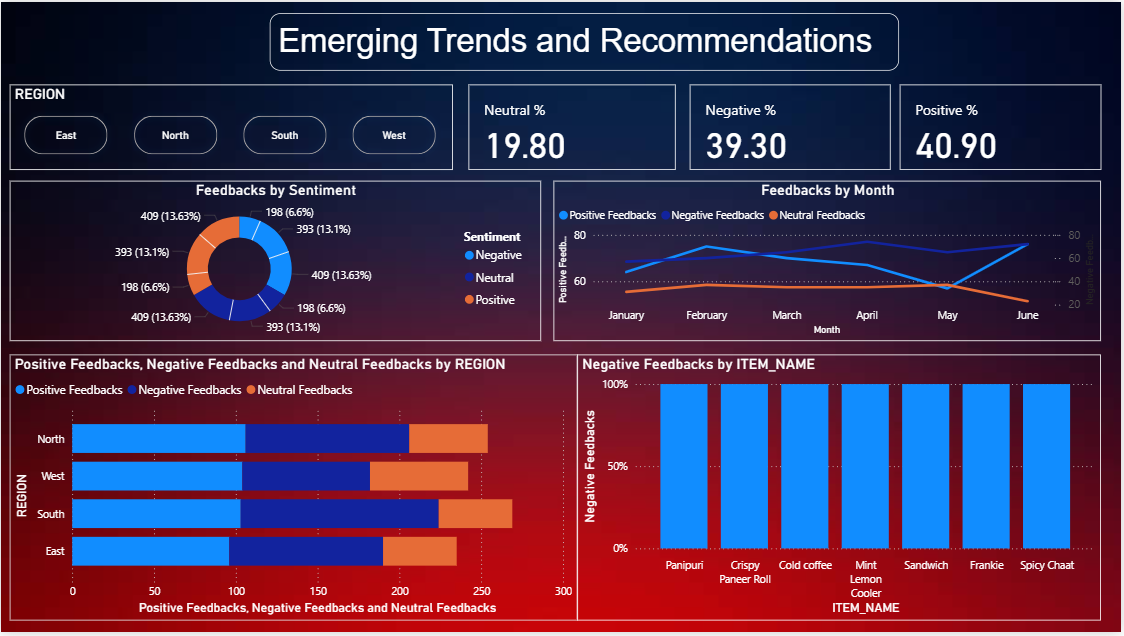

Layout of this report page (visuals, bound fields, positions):
{"tool":"powerbi","page":{"name":"milestone_2","canvas":[1280,720],"ordinal":1},"visuals":[{"type":"cardVisual","fields":{"Data":["unique_balaji_dataset_final_(1).Positive %"]},"box":[1026.9,93.6,230.8,97.4],"z":0},{"type":"cardVisual","fields":{"Data":["unique_balaji_dataset_final_(1).Negative %"]},"box":[787.2,93.6,229.5,97.4],"z":1000},{"type":"advancedSlicerVisual","fields":{"Values":["unique_balaji_dataset_final_(1).REGION"]},"box":[10.3,93.6,506.4,97.4],"z":2000},{"type":"barChart","fields":{"Category":["unique_balaji_dataset_final_(1).REGION"],"Y":["unique_balaji_dataset_final_(1).Positive Feedbacks","unique_balaji_dataset_final_(1).Negative Feedbacks","unique_balaji_dataset_final_(1).Neutral Feedbacks"]},"box":[10.3,402.6,648.7,303.8],"z":3000},{"type":"lineChart","title":" Feedbacks by Month","fields":{"Category":["unique_balaji_dataset_final_(1).DATE.Variation.Date Hierarchy.Month"],"Y":["unique_balaji_dataset_final_(1).Positive Feedbacks"],"Y2":["unique_balaji_dataset_final_(1).Negative Feedbacks","unique_balaji_dataset_final_(1).Neutral Feedbacks"]},"box":[631.9,204.9,625.8,182.8],"z":4000},{"type":"donutChart","title":"Feedbacks by Sentiment","fields":{"Category":["unique_balaji_dataset_final_(1).Sentiment"],"Y":["unique_balaji_dataset_final_(1).Neutral Feedbacks","unique_balaji_dataset_final_(1).Negative Feedbacks","unique_balaji_dataset_final_(1).Positive Feedbacks"]},"box":[9.8,204.9,607.4,182.8],"z":5000},{"type":"cardVisual","fields":{"Data":["unique_balaji_dataset_final_(1).Neutral %"]},"box":[534.6,93.6,237.2,97.4],"z":6000},{"type":"textbox","box":[307.8,13.3,718.9,65.6],"z":7000},{"type":"hundredPercentStackedColumnChart","fields":{"Category":["unique_balaji_dataset_final_(1).ITEM_NAME"],"Y":["unique_balaji_dataset_final_(1).Negative Feedbacks"]},"box":[659,402.6,598.7,303.8],"z":8000}]}

Visuals, with their boxes in screenshot pixels (x1, y1, x2, y2), scaled from the page's 1280x720 canvas onto the 1124x636 screenshot:
cardVisual - unique_balaji_dataset_final_(1).Positive %: left=902, top=83, right=1104, bottom=169
cardVisual - unique_balaji_dataset_final_(1).Negative %: left=691, top=83, right=893, bottom=169
advancedSlicerVisual - unique_balaji_dataset_final_(1).REGION: left=9, top=83, right=454, bottom=169
barChart - unique_balaji_dataset_final_(1).REGION x unique_balaji_dataset_final_(1).Positive Feedbacks: left=9, top=356, right=579, bottom=624
" Feedbacks by Month" lineChart: left=555, top=181, right=1104, bottom=342
"Feedbacks by Sentiment" donutChart: left=9, top=181, right=542, bottom=342
cardVisual - unique_balaji_dataset_final_(1).Neutral %: left=469, top=83, right=678, bottom=169
textbox: left=270, top=12, right=902, bottom=70
hundredPercentStackedColumnChart - unique_balaji_dataset_final_(1).ITEM_NAME x unique_balaji_dataset_final_(1).Negative Feedbacks: left=579, top=356, right=1104, bottom=624
